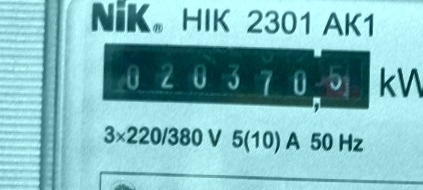0: (290, 68, 308, 99), (123, 62, 141, 92), (191, 62, 207, 90)
2: (157, 61, 176, 92)
3: (224, 62, 241, 92)
5: (326, 62, 345, 94)
7: (257, 69, 272, 99)
screen: (94, 37, 378, 120)
